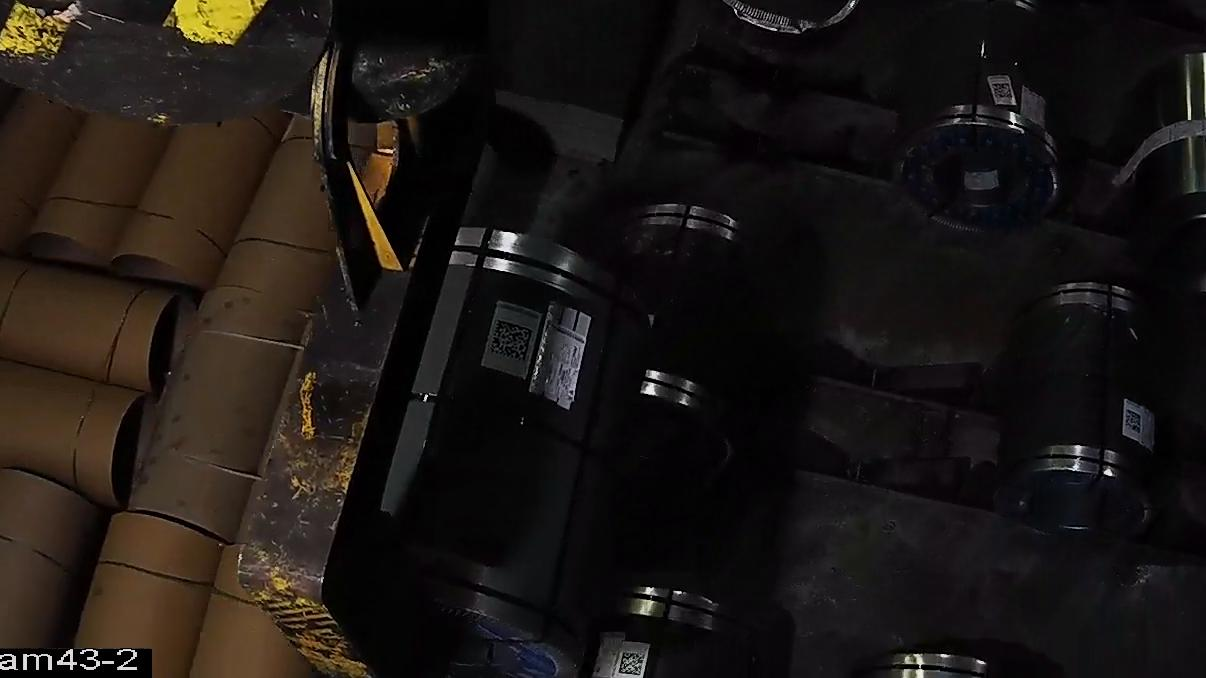data matrix: (486, 316, 537, 367), (618, 651, 648, 678), (1122, 408, 1145, 437), (990, 81, 1015, 103)
